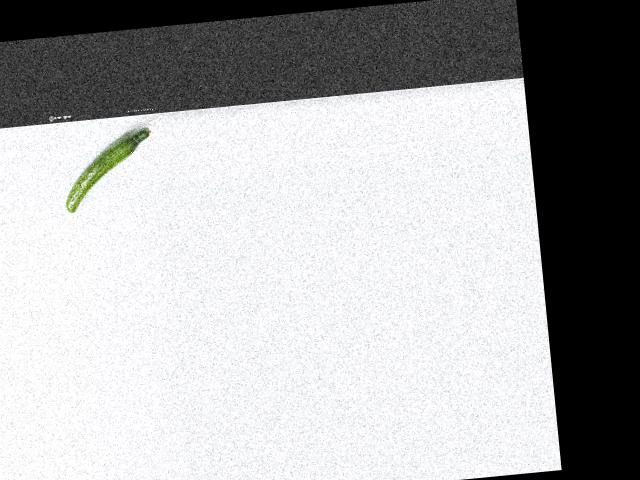cucumber: (60, 127, 158, 212)
